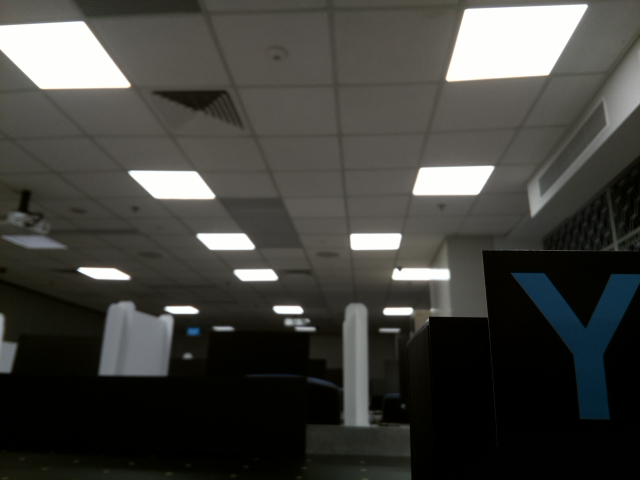y: (503, 265, 640, 431)
